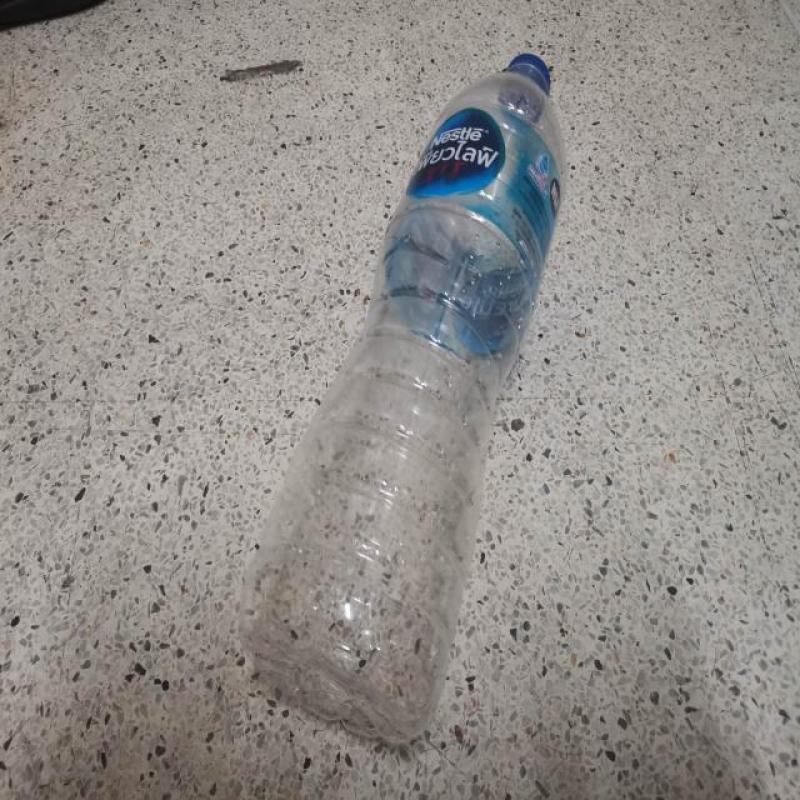botella: (239, 52, 565, 744)
